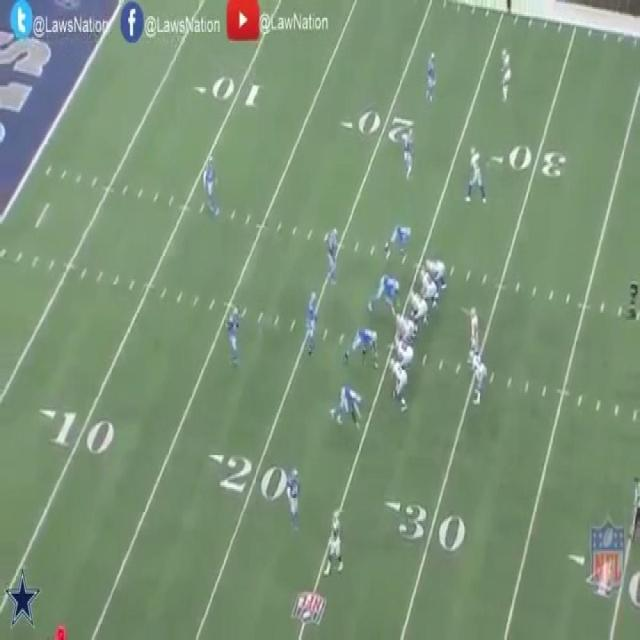center: (396, 310, 413, 335)
db: (286, 468, 302, 530), (227, 306, 241, 361), (204, 156, 217, 214), (404, 126, 416, 176), (426, 52, 435, 96)
lb: (308, 292, 322, 354), (328, 230, 340, 278)
qb: (467, 306, 482, 348)
